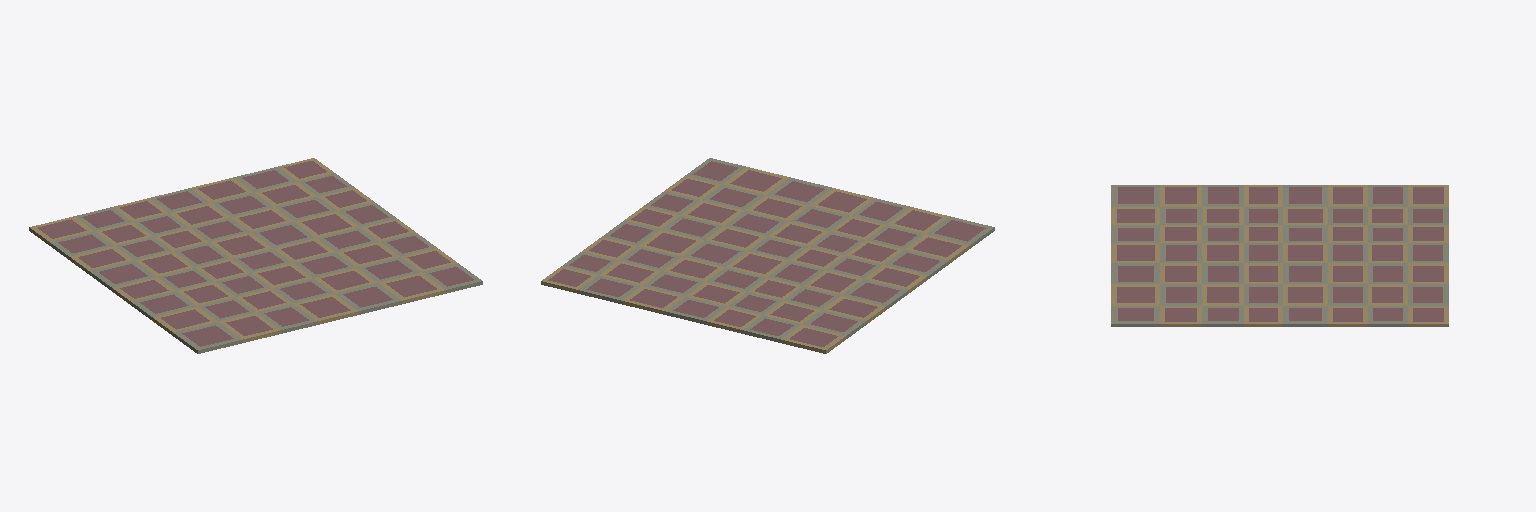
3 renders of one model, left to right at view 1: azimuth 30°, elevation 25°; view 2: azimuth 150°, elevation 25°; view 3: azimuth 270°, elevation 25°, orthographic.
Visible parts, largest first — view 1: pCube1; view 2: pCube1; view 3: pCube1.
Boxes of the visible parts, x1,y1,x2,y2 form: pCube1: [29, 158, 482, 353]; pCube1: [541, 158, 994, 353]; pCube1: [1111, 185, 1448, 326].
Bounding box in the file's own units: 1053 × 12.98 × 1078.
1 materials, 1 textured.